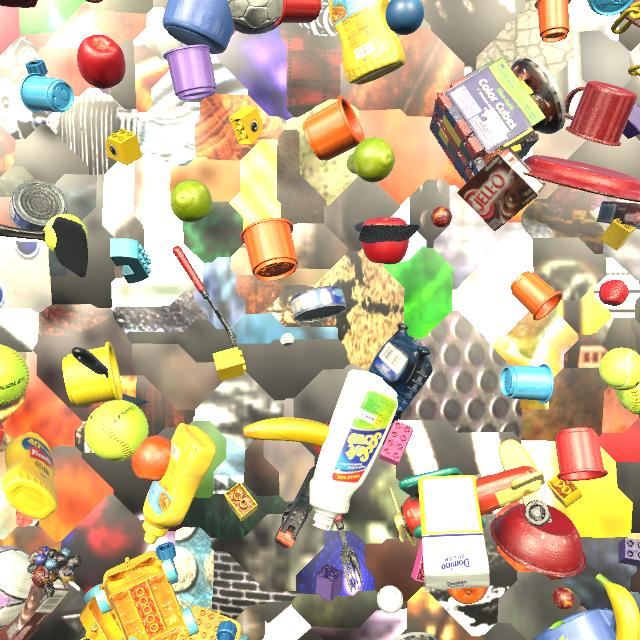ycb_003_cracker_box: (0, 419, 4, 445)
ycb_004_sugar_box: (418, 475, 490, 589)
ycb_006_mustard_bottle: (142, 423, 217, 544), (329, 0, 405, 85), (3, 432, 58, 519)
ycb_007_tuna_fish_can: (9, 180, 67, 231), (290, 286, 347, 323)
ycb_008_pudding_box: (457, 148, 546, 231), (5, 548, 70, 640), (596, 200, 640, 229)
ycb_011_banana: (595, 573, 640, 640), (243, 417, 329, 448)
ycb_012_strawberry: (599, 280, 629, 306)
ycb_013_apple: (77, 35, 126, 89), (361, 217, 409, 264)
ycb_016_pear: (347, 137, 395, 182), (170, 180, 213, 222)
ycb_017_orange: (132, 436, 171, 481), (447, 587, 488, 604)
